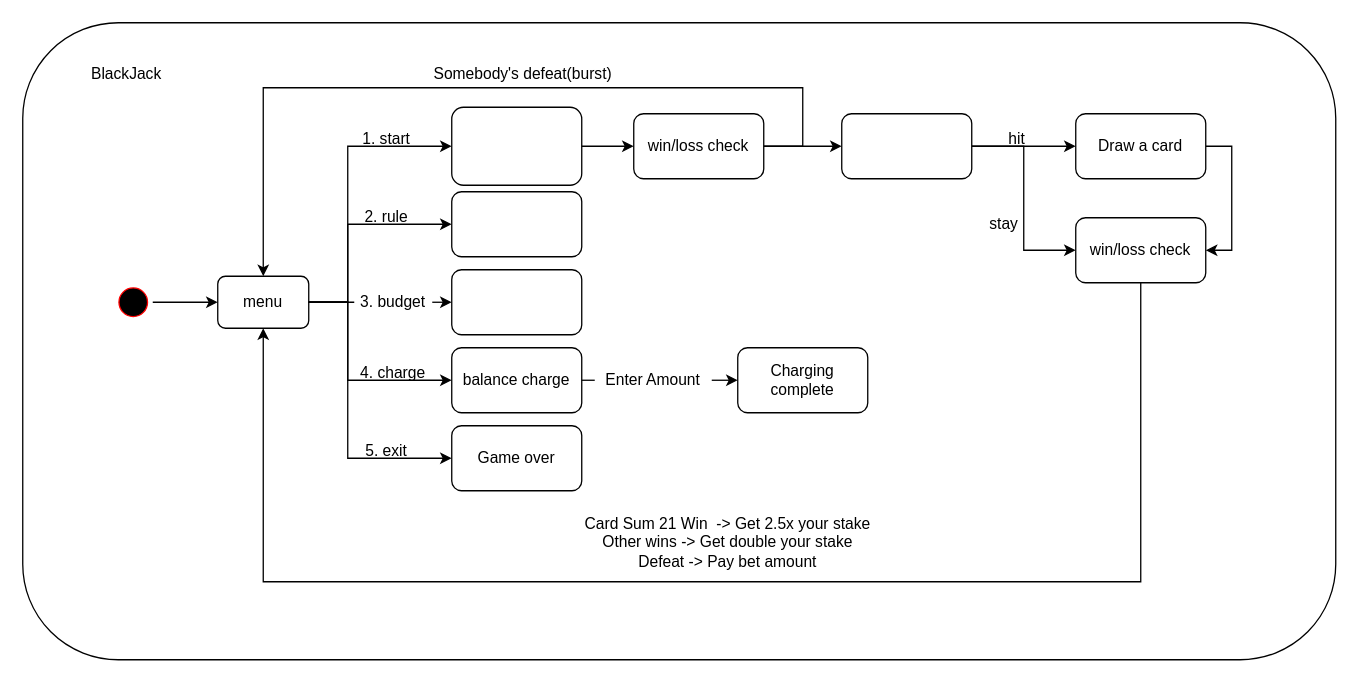
The diagram is 1359 pixels wide and 683 high, and some of its shapes have lost their labels. The box of each missing label's shape, as (x1, y1, x2, y2) in pixels:
Balance check: (450, 268, 582, 335)
Betting: (840, 112, 972, 179)
Create two cards each for the dealer and the player.: (450, 106, 582, 185)
Rule Description: (450, 190, 582, 257)
